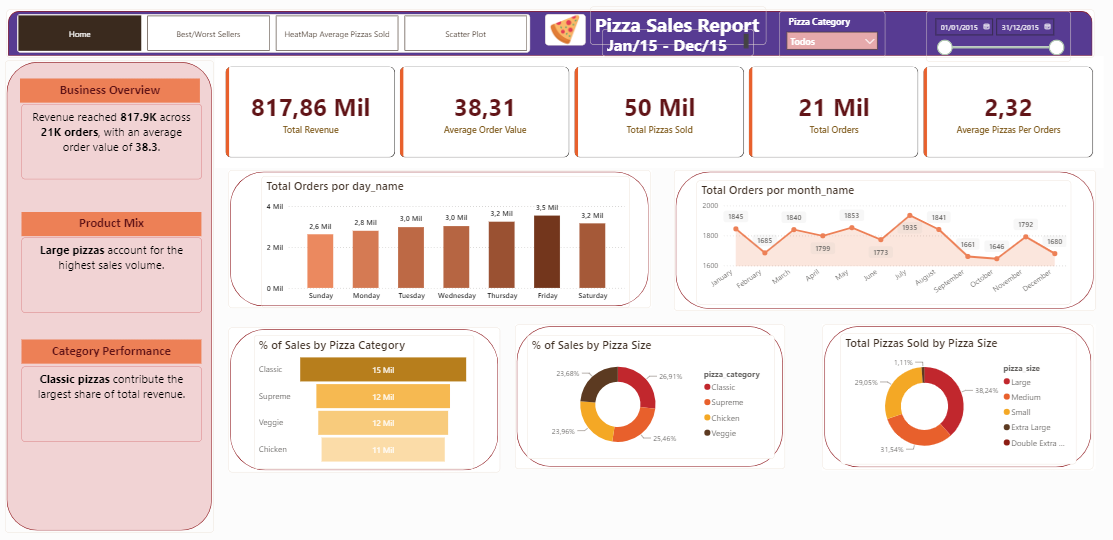

The page's visual inventory and layout, read from the dashboard file:
{"tool":"powerbi","page":{"name":"Home","canvas":[1920,1080],"ordinal":0},"visuals":[{"type":"cardVisual","fields":{"Data":["vw_pizza_sales_analytics.Total Revenue","vw_pizza_sales_analytics.Average Order Value","vw_pizza_sales_analytics.Total Pizzas Sold","vw_pizza_sales_analytics.Total Orders","vw_pizza_sales_analytics.Average Pizzas Per Orders"]},"box":[387.2,213.5,1472,185.1],"z":0},{"type":"shape","box":[1147.4,401.5,699,233.5],"z":0,"group":"g4"},{"type":"shape","box":[42.7,136.7,1802.3,79.7],"z":1000},{"type":"shape","box":[42.7,233.5,345,692.5],"z":1000,"group":"g3"},{"type":"areaChart","fields":{"Y":["vw_pizza_sales_analytics.Total Orders"],"Category":["vw_pizza_sales_analytics.month_name"]},"box":[1184.4,418.6,620.7,205],"z":1000,"group":"g4"},{"type":"textbox","box":[1009.2,132.3,291.6,62.7],"z":2000},{"type":"textbox","box":[1028.7,169,250.6,45.4],"z":3000},{"type":"image","box":[933.6,143.1,67,51.8],"z":4000},{"type":"group","id":"g1","title":"Grupo 1","box":[410,401.5,700.4,230.6],"z":5000},{"type":"group","id":"g2","title":"Grupo 4","box":[1395.2,657.7,449.9,239.2],"z":6000},{"type":"shape","title":"asd","box":[885.5,657.7,447,239.2],"z":6500,"group":"g6"},{"type":"slicer","fields":{"Values":["vw_pizza_sales_analytics.pizza_category"]},"box":[1322,138,176,78],"z":7000},{"type":"shape","box":[410,401.5,699.1,228.9],"z":7000,"group":"g1"},{"type":"donutChart","title":"% of Sales by Pizza Size","fields":{"Y":["vw_pizza_sales_analytics.Total Revenue"],"Category":["vw_pizza_sales_analytics.pizza_category"]},"box":[905,674.8,410,205],"z":7000,"group":"g6"},{"type":"shape","box":[1395.2,657.7,448.5,239.9],"z":7500,"group":"g7"},{"type":"slicer","fields":{"Values":["vw_pizza_sales_analytics.order_date"]},"box":[1566,138,240,84],"z":8000},{"type":"columnChart","fields":{"Y":["vw_pizza_sales_analytics.Total Orders"],"Category":["vw_pizza_sales_analytics.day_name"]},"box":[463.6,412,609.8,218.4],"z":8000,"group":"g1"},{"type":"shape","box":[410,663.4,450,240],"z":8000,"group":"g5"},{"type":"donutChart","title":"Total Pizzas Sold by Pizza Size","fields":{"Y":["vw_pizza_sales_analytics.Total Pizzas Sold"],"Category":["vw_pizza_sales_analytics.pizza_size"]},"box":[1425.1,672.1,390.9,216.7],"z":8000,"group":"g7"},{"type":"group","id":"g3","title":"Grupo 3","box":[40.7,233.5,348.2,692.5],"z":9000},{"type":"funnel","title":"% of Sales by Pizza Category","fields":{"Y":["vw_pizza_sales_analytics.Total Pizzas Sold"],"Category":["vw_pizza_sales_analytics.pizza_category"]},"box":[452.7,674.8,364.4,222.1],"z":9000,"group":"g5"},{"type":"group","id":"g4","title":"Grupo 2","box":[1147.4,401.5,699,233.5],"z":10000},{"type":"textbox","box":[44.4,625.1,344.5,42.7],"z":10000,"group":"g3"},{"type":"group","id":"g5","title":"Grupo 7","box":[410,663.4,449.9,239.2],"z":11000},{"type":"textbox","box":[44.4,374.5,344.5,42.7],"z":12000,"group":"g3"},{"type":"group","id":"g6","title":"Grupo 6","box":[885.5,657.7,447,239.2],"z":12000},{"type":"pageNavigator","box":[45.6,301.8,338.8,74],"z":13000},{"type":"textbox","box":[40.7,673.5,344.5,210.7],"z":13000,"group":"g3"},{"type":"pageNavigator","box":[45.6,233.5,338.8,74],"z":14000},{"type":"group","id":"g7","title":"Grupo 5","box":[1395.2,657.7,448.9,240.2],"z":14001,"group":"g2"},{"type":"image","box":[46,244,98,52],"z":15000},{"type":"textbox","box":[44.4,411.5,344.5,210.7],"z":15000,"group":"g3"},{"type":"image","box":[314,252,56,36],"z":16000},{"type":"image","box":[58,314,74,46],"z":17000}]}

Visuals, with their boxes on the page's 1920x1080 design canvas (x1, y1, x2, y2). These are canvas units, not pixel positions in the 1113x540 screenshot, which may show the page scaled, cropped or inside an application window:
cardVisual - vw_pizza_sales_analytics.Total Revenue x vw_pizza_sales_analytics.Average Order Value: (387, 214, 1859, 399)
shape: (1147, 402, 1846, 635)
shape: (43, 137, 1845, 216)
shape: (43, 234, 388, 926)
areaChart - vw_pizza_sales_analytics.Total Orders x vw_pizza_sales_analytics.month_name: (1184, 419, 1805, 624)
textbox: (1009, 132, 1301, 195)
textbox: (1029, 169, 1279, 214)
image: (934, 143, 1001, 195)
"Grupo 1" group: (410, 402, 1110, 632)
"Grupo 4" group: (1395, 658, 1845, 897)
"asd" shape: (886, 658, 1332, 897)
slicer - vw_pizza_sales_analytics.pizza_category: (1322, 138, 1498, 216)
shape: (410, 402, 1109, 630)
"% of Sales by Pizza Size" donutChart: (905, 675, 1315, 880)
shape: (1395, 658, 1844, 898)
slicer - vw_pizza_sales_analytics.order_date: (1566, 138, 1806, 222)
columnChart - vw_pizza_sales_analytics.Total Orders x vw_pizza_sales_analytics.day_name: (464, 412, 1073, 630)
shape: (410, 663, 860, 903)
"Total Pizzas Sold by Pizza Size" donutChart: (1425, 672, 1816, 889)
"Grupo 3" group: (41, 234, 389, 926)
"% of Sales by Pizza Category" funnel: (453, 675, 817, 897)
"Grupo 2" group: (1147, 402, 1846, 635)
textbox: (44, 625, 389, 668)
"Grupo 7" group: (410, 663, 860, 903)
textbox: (44, 374, 389, 417)
"Grupo 6" group: (886, 658, 1332, 897)
pageNavigator: (46, 302, 384, 376)
textbox: (41, 674, 385, 884)
pageNavigator: (46, 234, 384, 308)
"Grupo 5" group: (1395, 658, 1844, 898)
image: (46, 244, 144, 296)
textbox: (44, 412, 389, 622)
image: (314, 252, 370, 288)
image: (58, 314, 132, 360)
